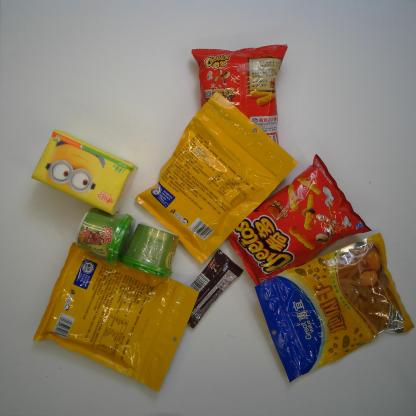Chocolate: (185, 248, 244, 330)
Dried Fruit: (132, 89, 298, 266), (32, 241, 202, 393), (253, 232, 416, 384)
Instant Drink: (75, 207, 136, 267), (121, 221, 180, 280)
Puffed Food: (226, 152, 372, 286), (192, 44, 288, 146)
Tissue: (30, 128, 139, 217)
